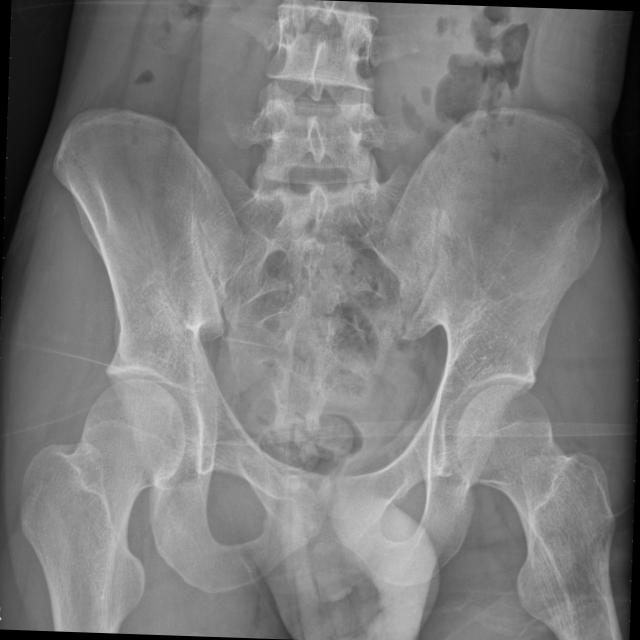normal-left: (456, 385, 623, 640)
normal-right: (20, 380, 184, 633)
